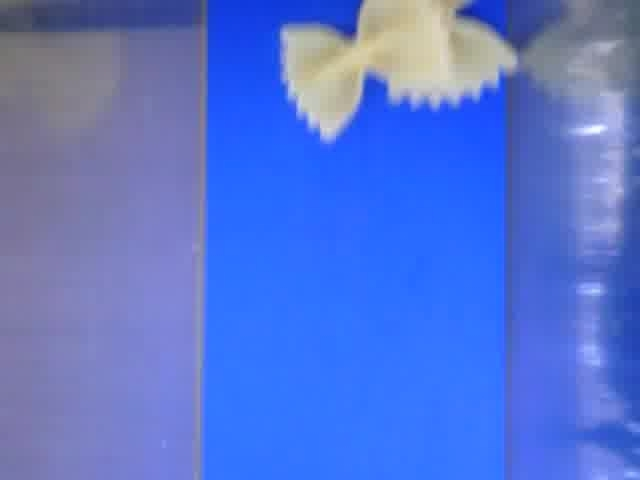farfalle: (279, 1, 450, 141), (386, 1, 519, 105)
